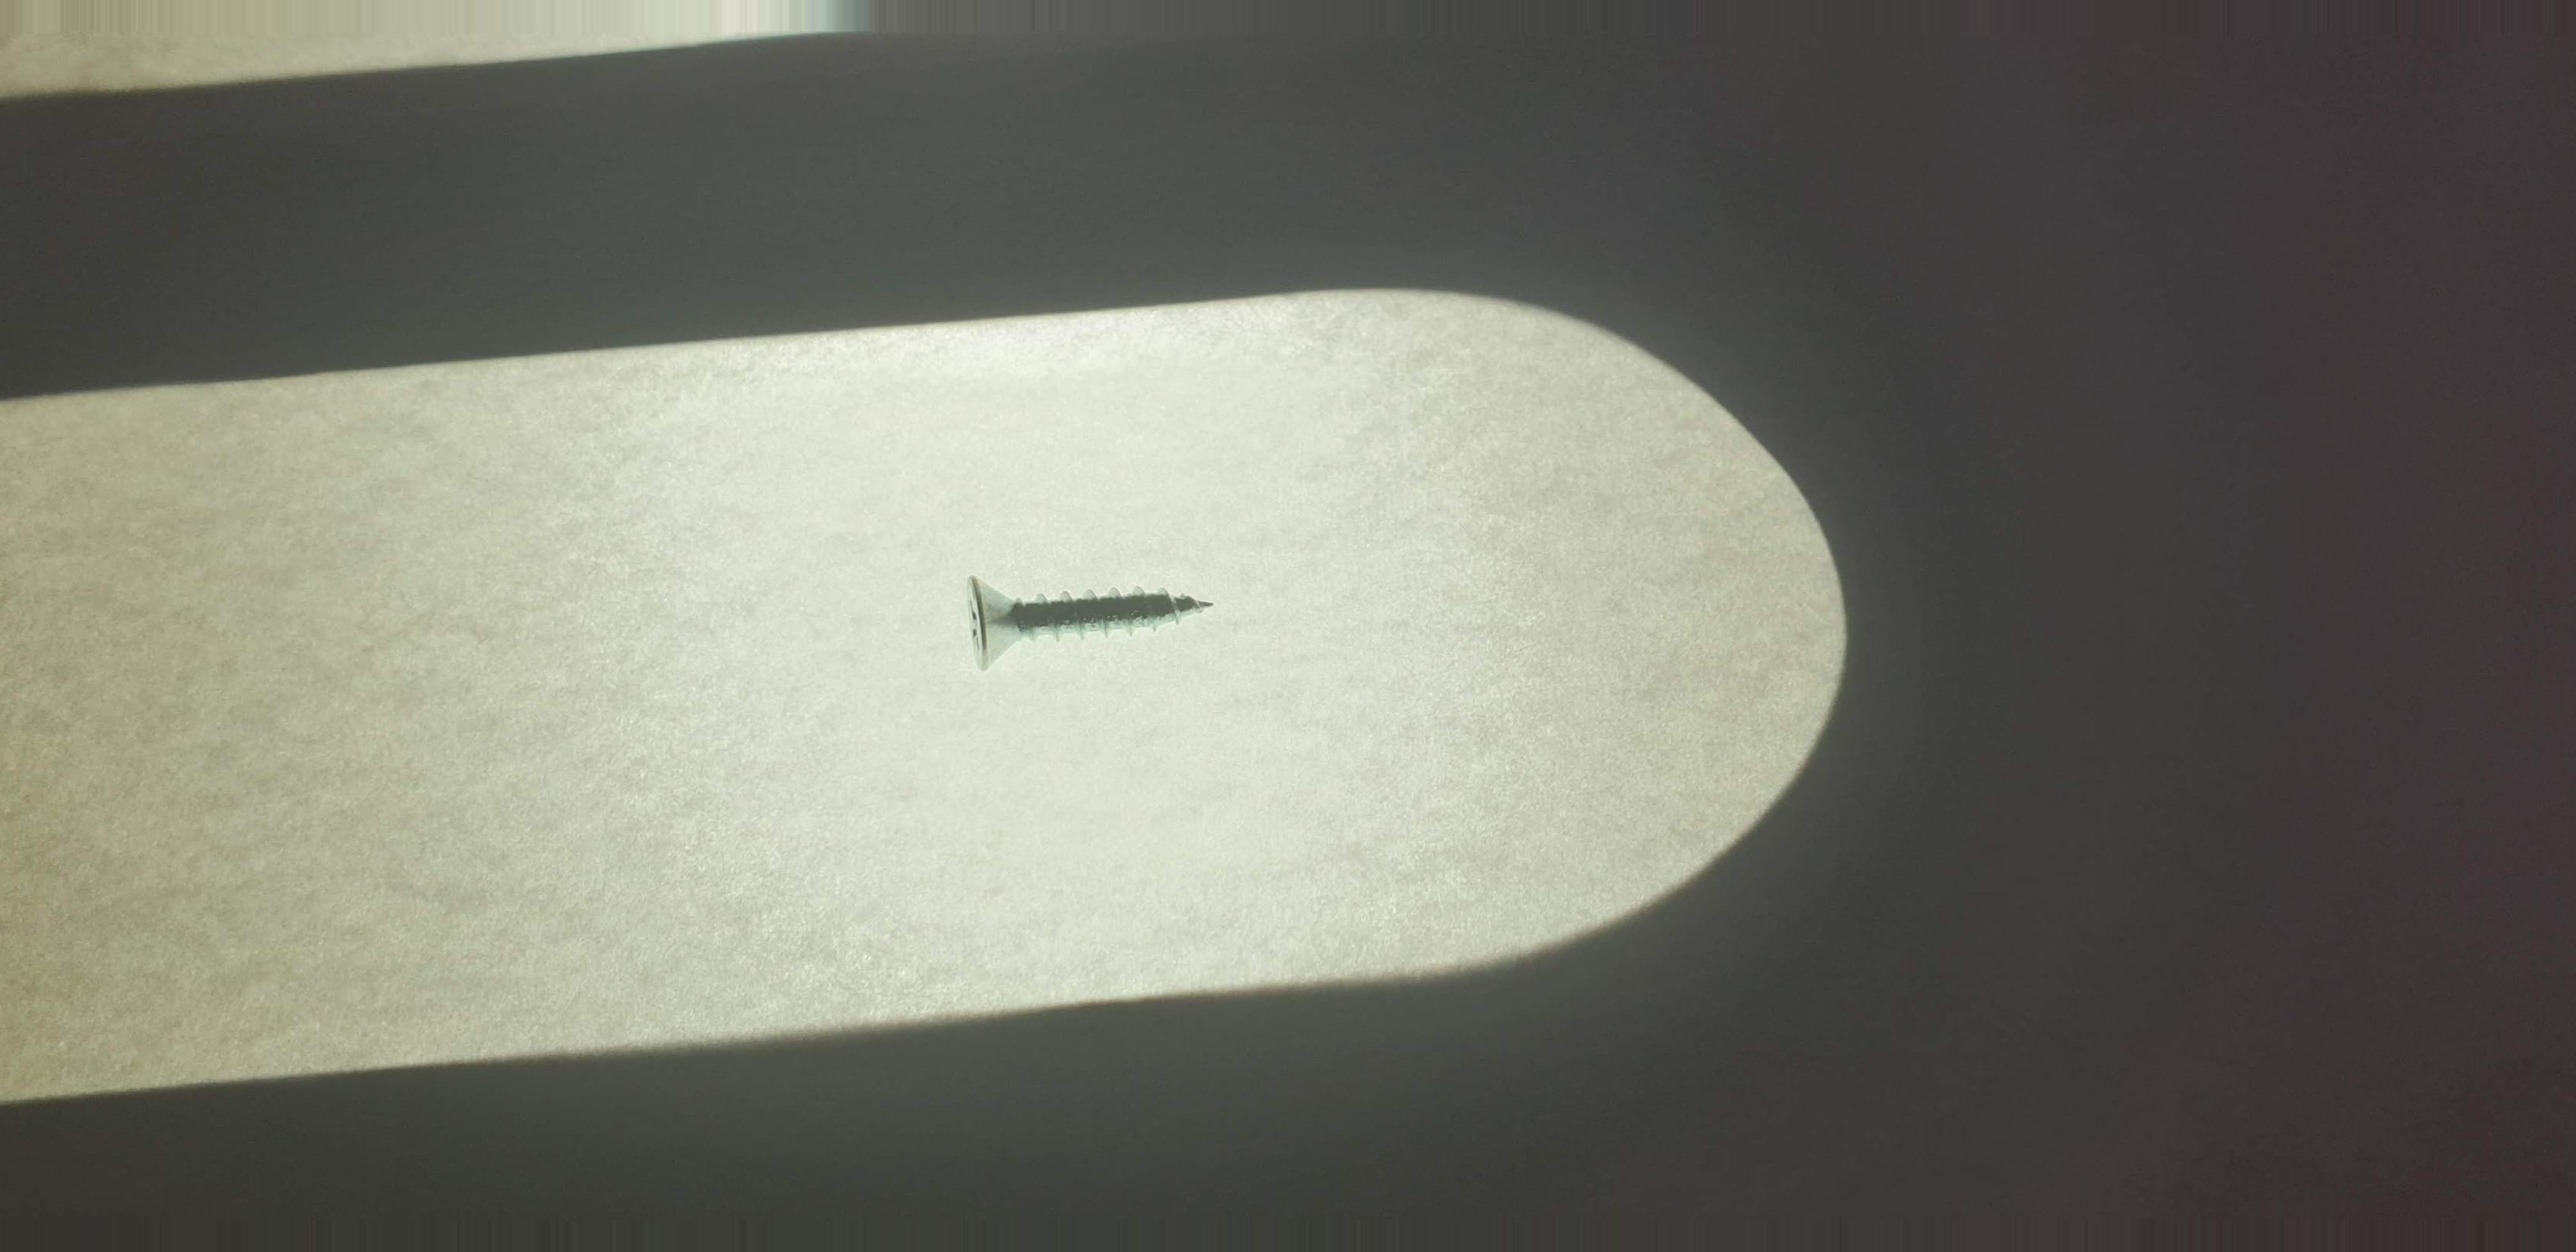S003: (912, 536, 1275, 688)
